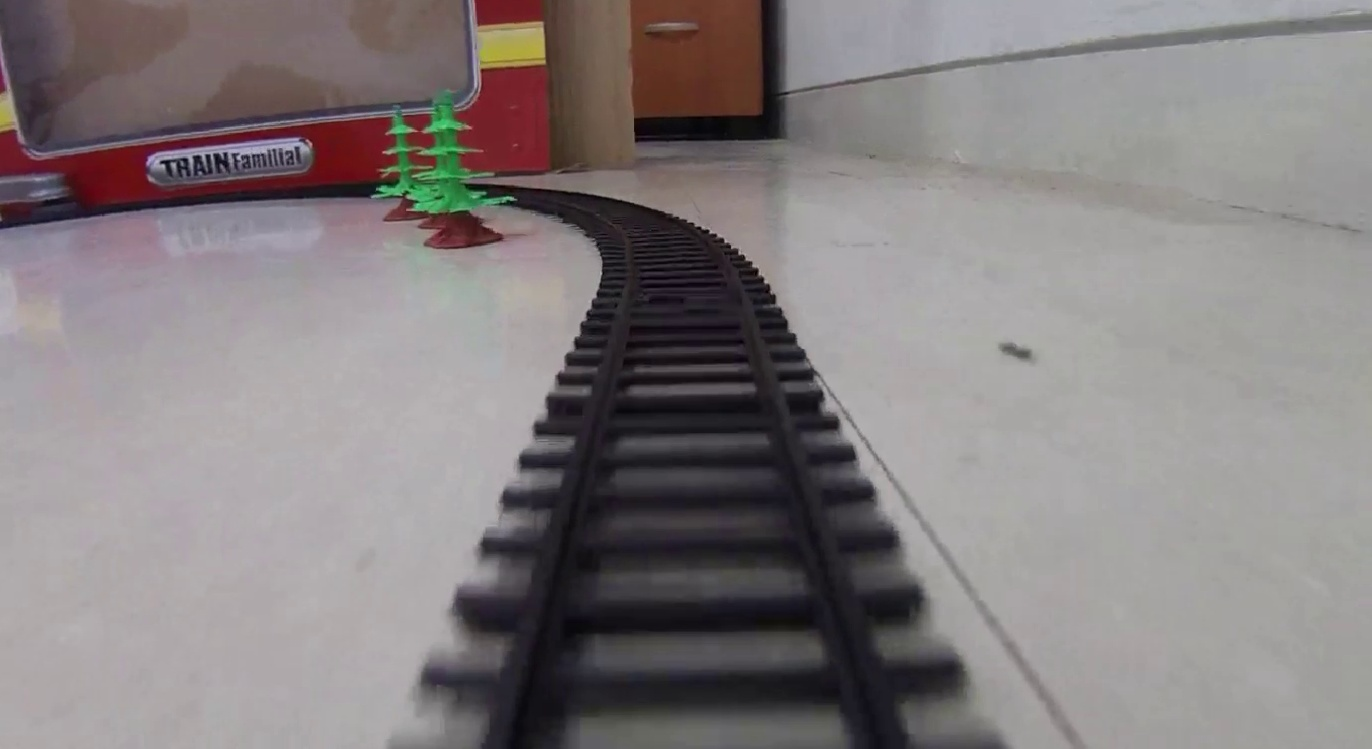tree: (424, 94, 495, 249)
